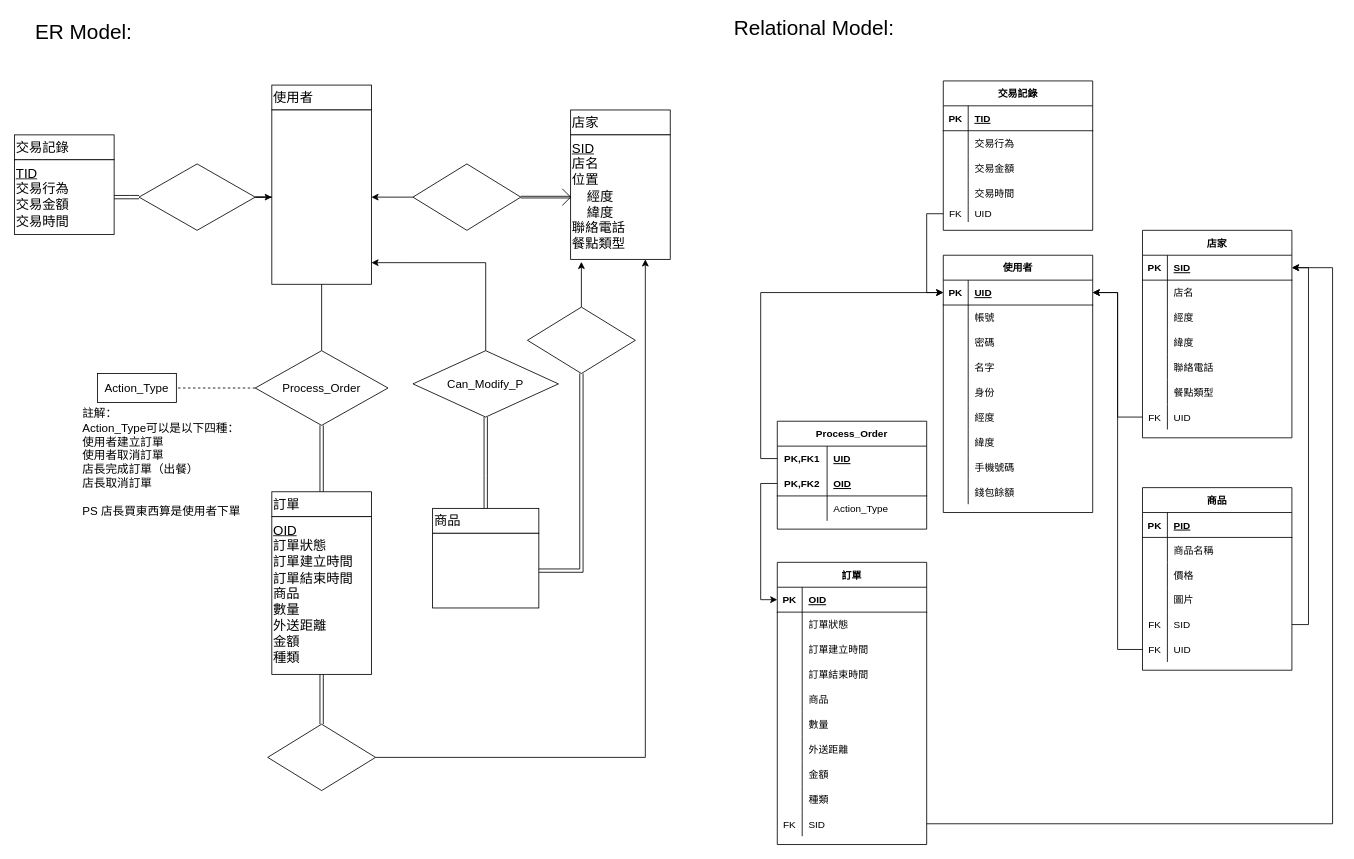
The diagram is 1354 pixels wide and 859 high, and some of its shapes have lost their labels. The shapes that lost their labels are listed below. From the top down, each one's centre as x and y in pixels, then its label:
the point at 196,196: Transaction
the point at 321,196: UID 帳號 密碼 名字 身份 位置 經度 緯度 手機號碼 錢包餘額
the point at 466,196: Is_Owner
the point at 581,340: P_Belongs_to
the point at 485,570: PID 商品名稱 價格 圖片
the point at 321,757: O_Belongs_to
